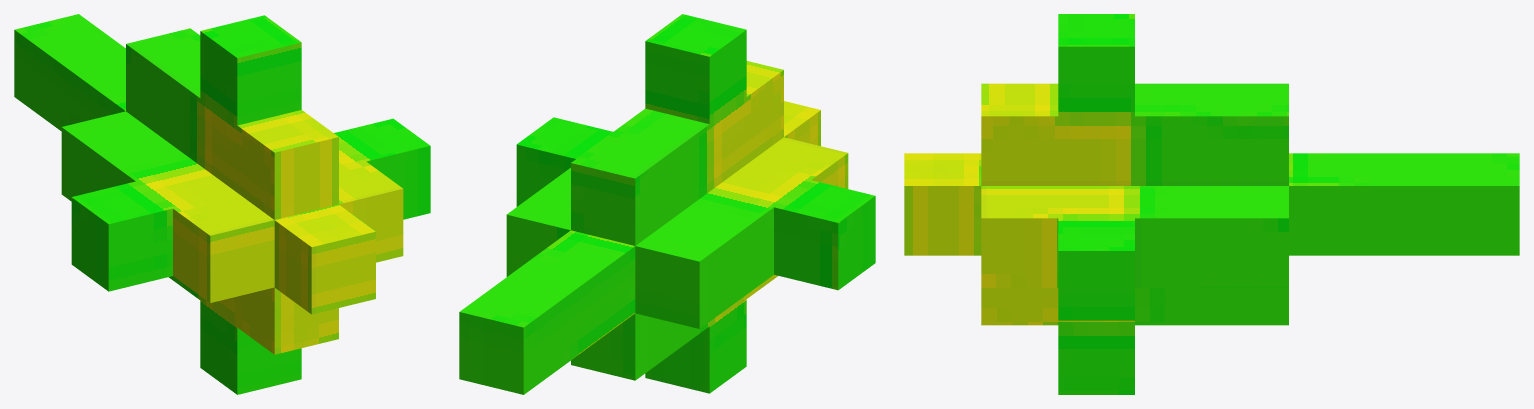
Rendered from LaserBullet_01.FBX.
3 views of the same model, side by side, from view 1: azimuth 30°, elevation 25°; view 2: azimuth 150°, elevation 25°; view 3: azimuth 270°, elevation 25° (orthographic). The views are drawn at different scales.
Visible parts, largest first — view 1: LaserBullet_01; view 2: LaserBullet_01; view 3: LaserBullet_01.
Boxes of the visible parts, x1,y1,x2,y2 form: LaserBullet_01: [14, 14, 430, 394]; LaserBullet_01: [459, 14, 875, 394]; LaserBullet_01: [904, 14, 1519, 394].
Bounding box in the file's own units: 50 × 50 × 80.
